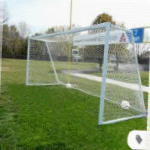goals: (25, 21, 149, 126)
